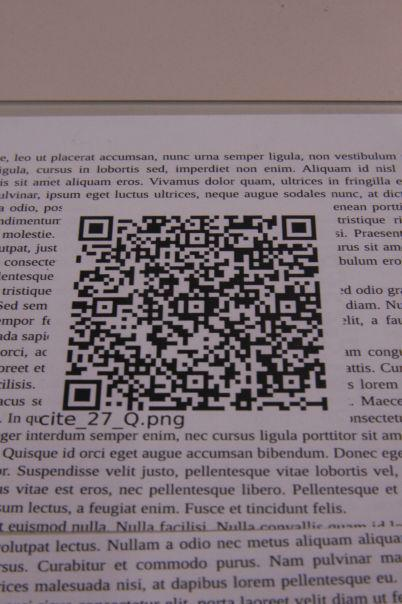Finder pattern: (59, 377, 107, 414), (278, 210, 324, 243), (73, 213, 120, 243)
